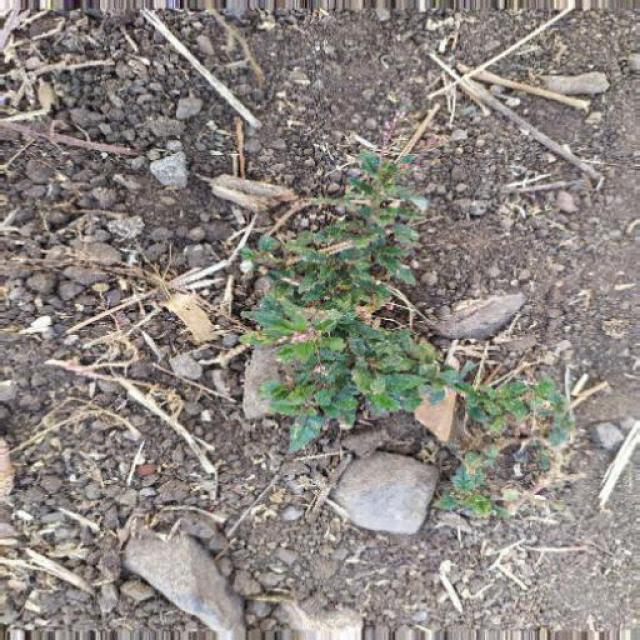weed: (267, 158, 564, 468)
